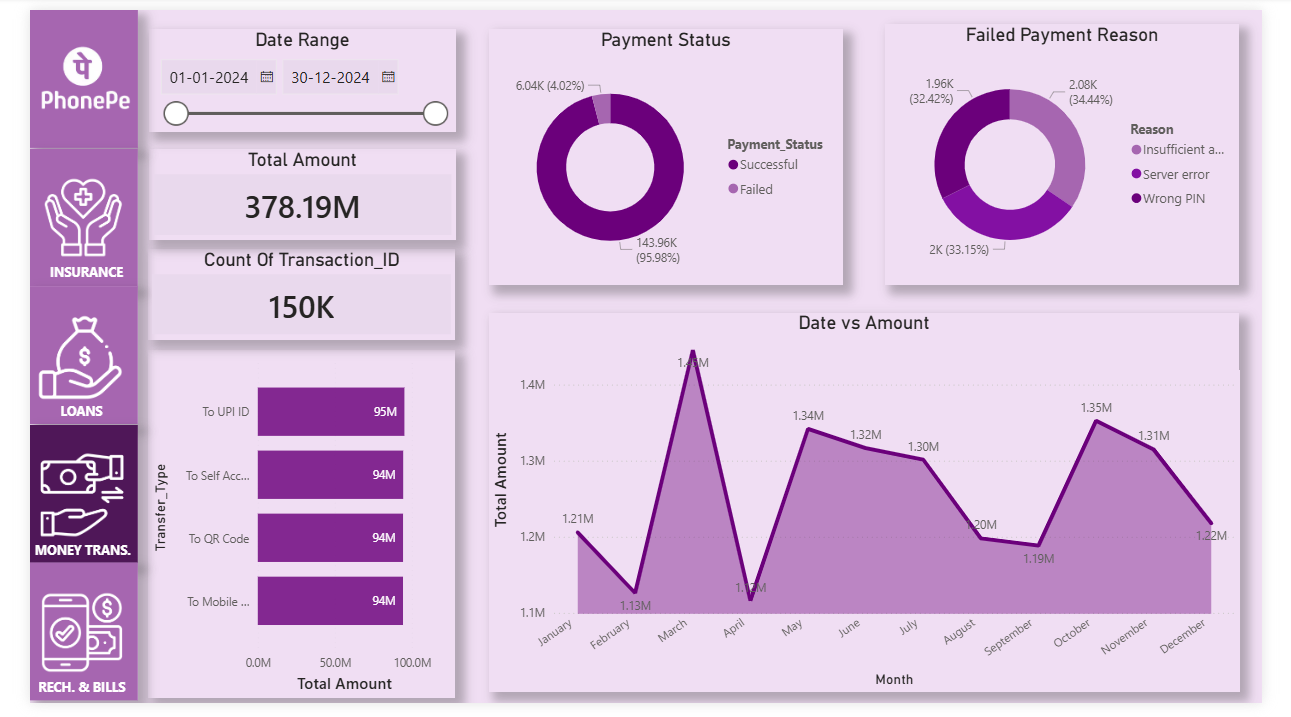

This screenshot's page, from the dashboard's own definition file:
{"tool":"powerbi","page":{"name":"Money Trans","canvas":[1280,720],"ordinal":3},"visuals":[{"type":"shape","box":[0,0,112.2,143.6],"z":0},{"type":"shape","box":[0,143.6,112.2,143.6],"z":1000},{"type":"shape","box":[0,287.1,112.2,143.6],"z":2000},{"type":"shape","box":[0,430.7,112.2,143.6],"z":3000},{"type":"shape","box":[0,574.3,112.2,143.6],"z":4000},{"type":"image","box":[7.2,8.4,98.9,127.9],"z":5000},{"type":"image","box":[6,152,97.7,126.7],"z":6000},{"type":"image","box":[4.8,295.6,97.7,126.7],"z":7000},{"type":"image","box":[4.8,440.4,97.7,126.7],"z":8000},{"type":"image","box":[4.8,582.7,97.7,126.7],"z":9000},{"type":"textbox","box":[5,259,107,28],"z":10000},{"type":"textbox","box":[0,403,107,28],"z":11000},{"type":"textbox","box":[0,546.4,122.6,27.4],"z":12000},{"type":"textbox","box":[0,689.3,133.3,31],"z":13000},{"type":"slicer","title":"Date Range","fields":{"Values":["Money_Transfer.Date"]},"box":[123.8,19,319,107.1],"z":14000},{"type":"cardVisual","title":"Total   Amount","fields":{"Data":["Sum(Money_Transfer.Amount)"]},"box":[123.8,144,319,95.2],"z":15000},{"type":"actionButton","box":[0,141.7,113.1,145.2],"z":16000},{"type":"actionButton","box":[0,288.1,113.1,145.2],"z":17000},{"type":"actionButton","box":[0,433.3,113.1,140.5],"z":18000},{"type":"actionButton","box":[0,0,113.1,141.7],"z":19000},{"type":"actionButton","box":[0,573.8,113.1,141.7],"z":20000},{"type":"donutChart","title":"Failed Payment Reason","fields":{"Category":["Money_Transfer.Reason"],"Y":["Count(Money_Transfer.Transaction_ID)"]},"box":[888.1,14.3,367.9,271.4],"z":21000},{"type":"areaChart","title":"Date vs Amount","fields":{"Category":["Money_Transfer.Date.Variation.Date Hierarchy.Month"],"Y":["Sum(Money_Transfer.Amount)"]},"box":[476.2,314.3,779.8,394],"z":22000},{"type":"donutChart","title":"Payment Status","fields":{"Category":["Money_Transfer.Payment_Status"],"Y":["CountNonNull(Money_Transfer.Transaction_ID)"]},"box":[476.2,19,367.9,266.7],"z":23000},{"type":"cardVisual","title":"Count Of Transaction_ID","fields":{"Data":["CountNonNull(Money_Transfer.Transaction_ID)"]},"box":[122.6,247.6,320.2,94],"z":24000},{"type":"clusteredBarChart","title":"Date vs Amount","fields":{"Category":["Money_Transfer.Transfer_Type"],"Y":["Sum(Money_Transfer.Amount)"]},"box":[122.6,353.6,320.2,361.9],"z":25000}]}

Visuals, with their boxes in screenshot pixels (x1, y1, x2, y2), scaled from the page's 1280x720 canvas onto the 1291x717 screenshot:
shape: locate(0, 0, 113, 143)
shape: locate(0, 143, 113, 286)
shape: locate(0, 286, 113, 429)
shape: locate(0, 429, 113, 572)
shape: locate(0, 572, 113, 715)
image: locate(7, 8, 107, 136)
image: locate(6, 151, 105, 278)
image: locate(5, 294, 103, 421)
image: locate(5, 439, 103, 565)
image: locate(5, 580, 103, 706)
textbox: locate(5, 258, 113, 286)
textbox: locate(0, 401, 108, 429)
textbox: locate(0, 544, 124, 571)
textbox: locate(0, 686, 134, 716)
"Date Range" slicer: locate(125, 19, 447, 126)
"Total   Amount" cardVisual: locate(125, 143, 447, 238)
actionButton: locate(0, 141, 114, 286)
actionButton: locate(0, 287, 114, 431)
actionButton: locate(0, 431, 114, 571)
actionButton: locate(0, 0, 114, 141)
actionButton: locate(0, 571, 114, 713)
"Failed Payment Reason" donutChart: locate(896, 14, 1267, 285)
"Date vs Amount" areaChart: locate(480, 313, 1267, 705)
"Payment Status" donutChart: locate(480, 19, 851, 285)
"Count Of Transaction_ID" cardVisual: locate(124, 247, 447, 340)
"Date vs Amount" clusteredBarChart: locate(124, 352, 447, 713)
